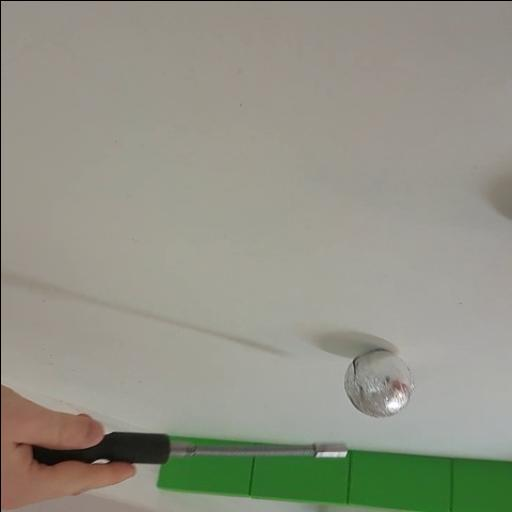alive: (340, 346, 418, 420)
